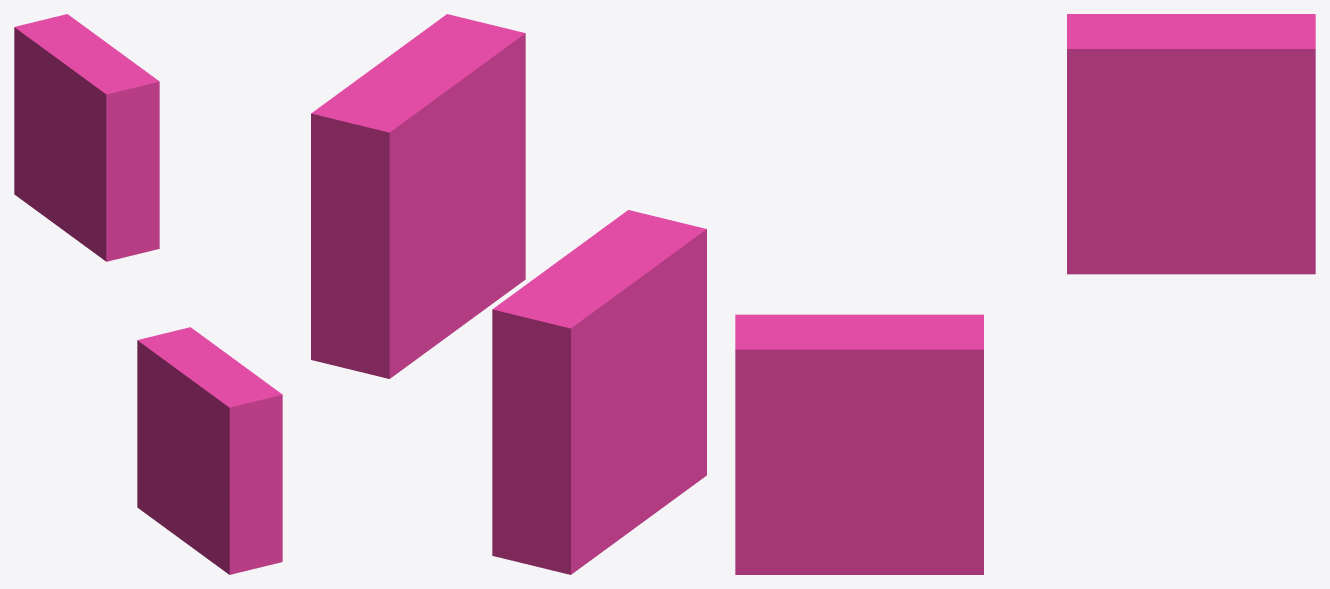
The model's file is satboy_V3_buttons_compressed.gltf.
3 views of the same model, side by side, from view 1: azimuth 30°, elevation 25°; view 2: azimuth 150°, elevation 25°; view 3: azimuth 270°, elevation 25° (orthographic). The views are drawn at different scales.
Parts seen in each view (by area): view 1: button UR 002, button LL 002; view 2: button UR 002, button LL 002; view 3: button UR 002, button LL 002.
Boxes of the visible parts, <box> form: button UR 002: <box>14,14,159,261</box>; button LL 002: <box>137,327,282,574</box>; button UR 002: <box>311,14,525,378</box>; button LL 002: <box>492,210,706,574</box>; button UR 002: <box>1067,14,1315,274</box>; button LL 002: <box>735,314,983,574</box>.
Bounding box in the file's own units: 1 × 7 × 7.
